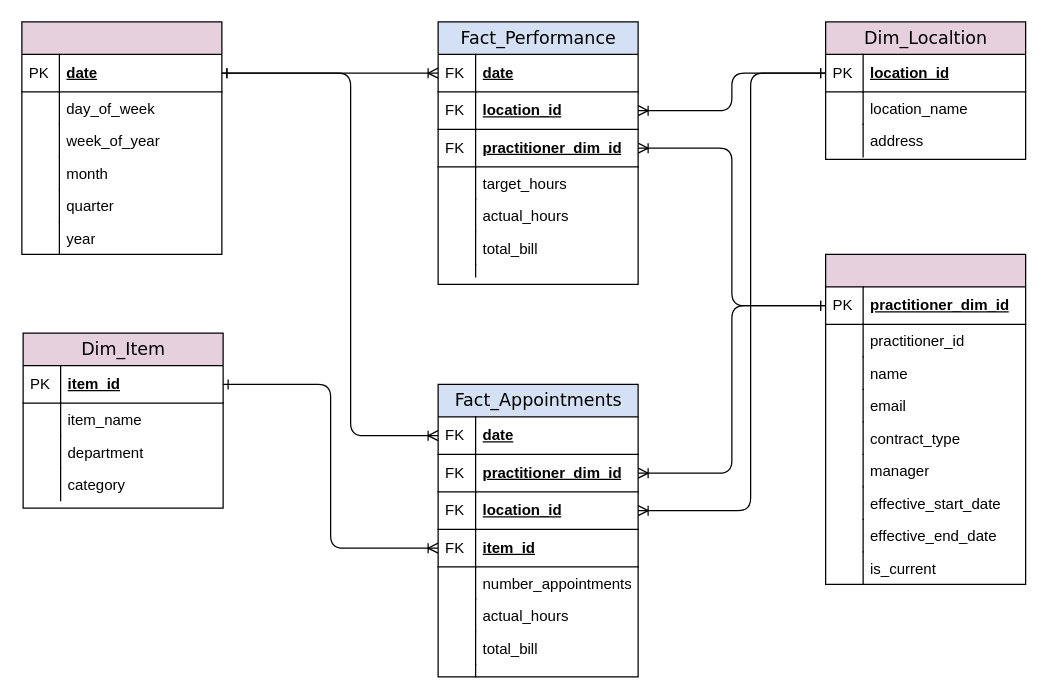
Image size: 1048x699. Some labels were removed from this diagram. The shapes that lost their labels are listed below. From the top down, each one's box as (x1, y1, x2, y2) in pixels, then its label:
(21, 21, 222, 254): Dim_Date
(824, 253, 1026, 584): Dim_Practitioner
